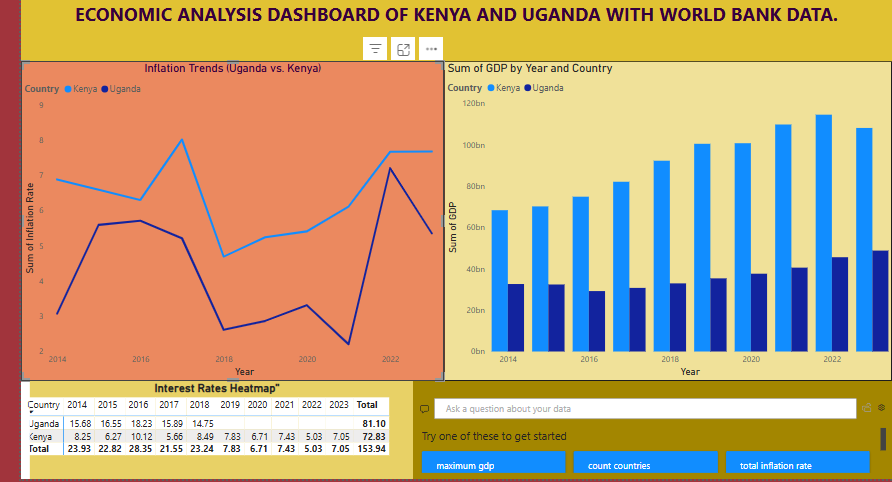

The dashboard page shown, as its layout file describes it:
{"tool":"powerbi","page":{"name":"Page 1","canvas":[1280,720],"ordinal":0},"visuals":[{"type":"lineChart","title":"Inflation Trends (Uganda vs. Kenya)","fields":{"Category":["economic_indicators_uganda_kenya.Year"],"Series":["economic_indicators_uganda_kenya.Country"],"Y":["Sum(economic_indicators_uganda_kenya.Inflation Rate)"]},"box":[0,105.8,621.6,470.2],"z":0},{"type":"clusteredColumnChart","fields":{"Category":["economic_indicators_uganda_kenya.Year"],"Series":["economic_indicators_uganda_kenya.Country"],"Y":["Sum(economic_indicators_uganda_kenya.GDP)"]},"box":[621.6,105.8,658.3,470.2],"z":1},{"type":"pivotTable","title":"Interest Rates Heatmap\"","fields":{"Rows":["economic_indicators_uganda_kenya.Country"],"Columns":["economic_indicators_uganda_kenya.Year"],"Values":["Sum(economic_indicators_uganda_kenya.Interest Rate)"]},"box":[0,576,576,144],"z":2},{"type":"textbox","box":[0,13.2,1279.8,92.6],"z":3},{"type":"qnaVisual","box":[576,576,703.8,144],"z":4},{"type":"qnaVisual","box":[0,570.1,13.2,149.9],"z":5}]}

Visuals, with their boxes in screenshot pixels (x1, y1, x2, y2):
"Inflation Trends (Uganda vs. Kenya)" lineChart: [x1=19, y1=58, x2=443, y2=379]
clusteredColumnChart - economic_indicators_uganda_kenya.Year x economic_indicators_uganda_kenya.Country: [x1=443, y1=58, x2=891, y2=379]
"Interest Rates Heatmap"" pivotTable: [x1=19, y1=379, x2=412, y2=478]
textbox: [x1=19, y1=0, x2=891, y2=58]
qnaVisual: [x1=412, y1=379, x2=891, y2=478]
qnaVisual: [x1=19, y1=375, x2=28, y2=478]
